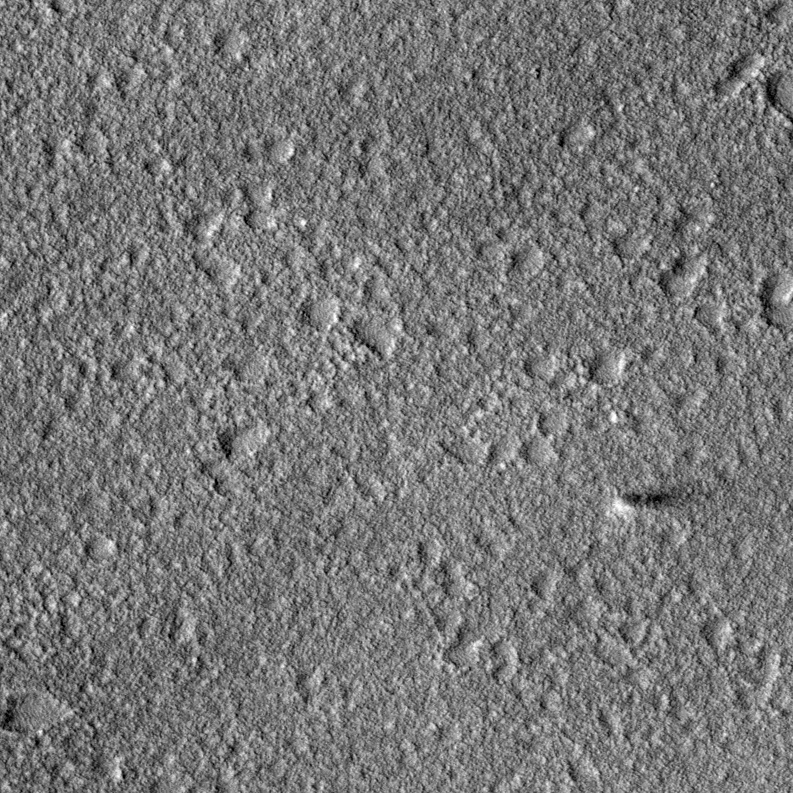dust_devil: (609, 483, 687, 519)
